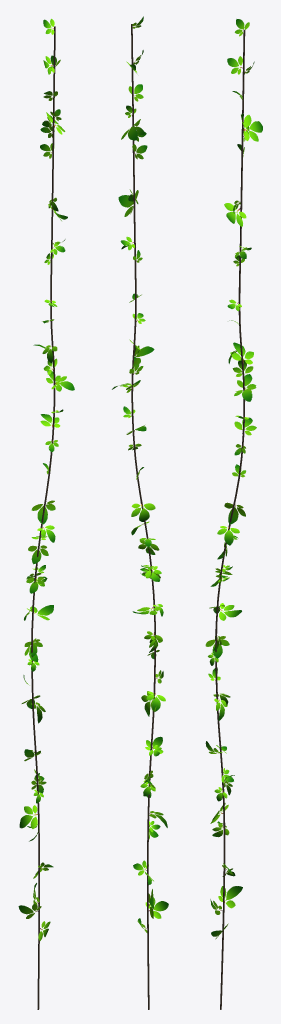
File: Ivy.fbx
The picture shows the model from 3 angles, left to right: view 1: azimuth 30°, elevation 25°; view 2: azimuth 210°, elevation 25°; view 3: azimuth 330°, elevation 25°; orthographic projection.
Visible parts, largest first — view 1: Line002; view 2: Line002; view 3: Line002.
Boxes of the visible parts, bbox=[...] form: Line002: bbox=[18, 18, 74, 1009]; Line002: bbox=[112, 16, 168, 1009]; Line002: bbox=[205, 19, 262, 1009].
Size of the model in its own units: 37.73 by 604 by 33.51.
